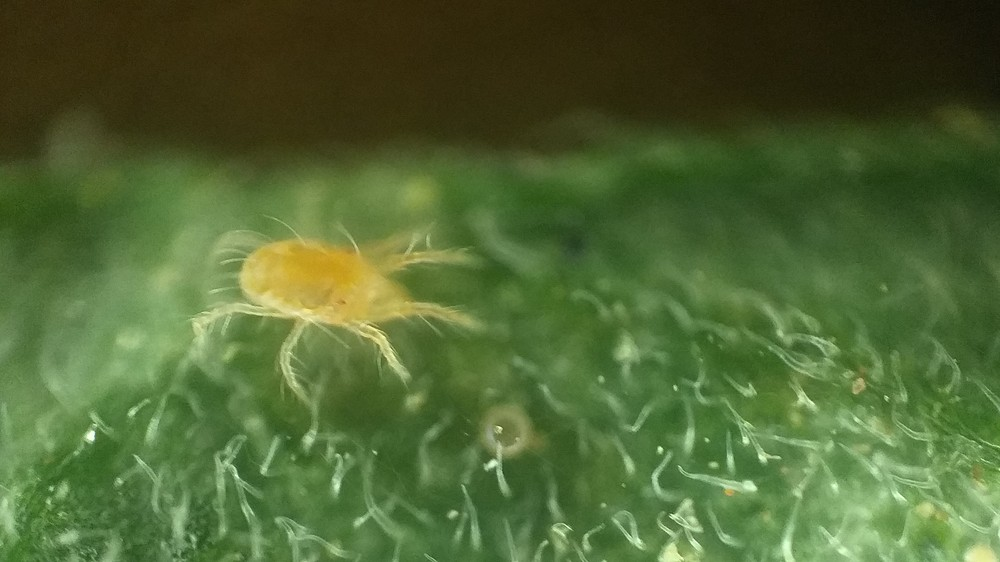Aracnido Rojo: (166, 176, 516, 422)
